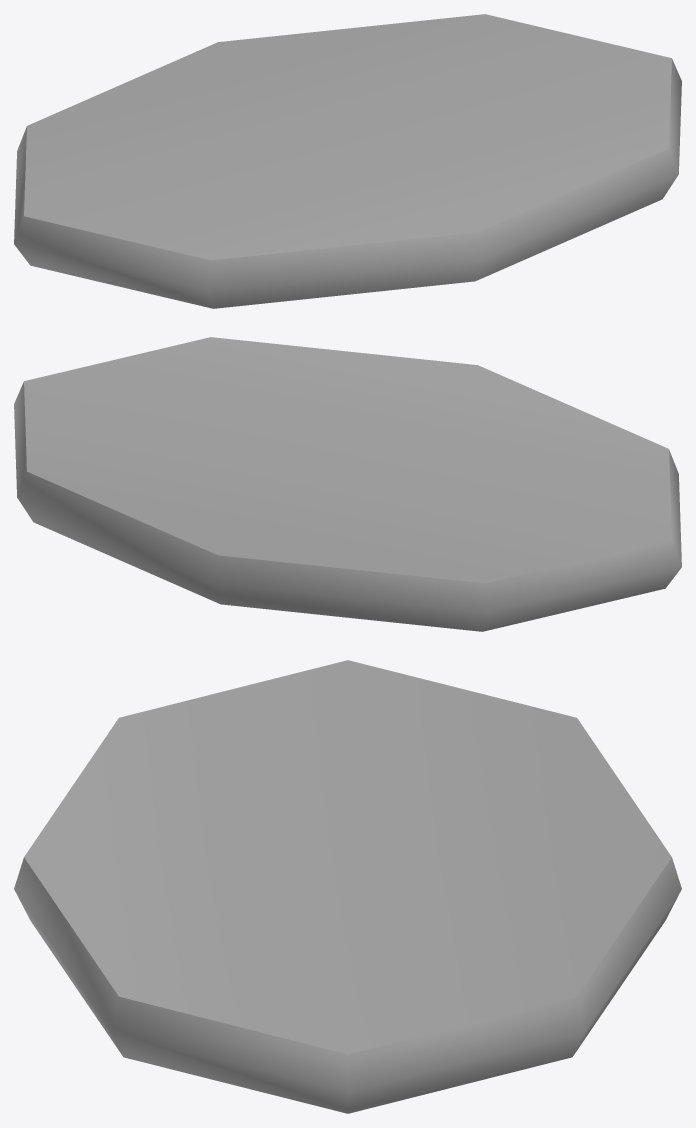
The model's file is stone_guard_058.glb.
The picture shows the model from 3 angles, top to bottom: view 1: azimuth 30°, elevation 25°; view 2: azimuth 150°, elevation 25°; view 3: azimuth 270°, elevation 25°; orthographic projection. The views are drawn at different scales.
Parts seen in each view (by area): view 1: stone_guard.058; view 2: stone_guard.058; view 3: stone_guard.058.
Boxes of the visible parts, x1,y1,x2,y2 form: stone_guard.058: (14,14,681,308); stone_guard.058: (14,337,681,631); stone_guard.058: (14,660,681,1113).
Size of the model in its own units: 5.51 by 0.4014 by 3.83.
Materials: 1 (1 with a texture image).
